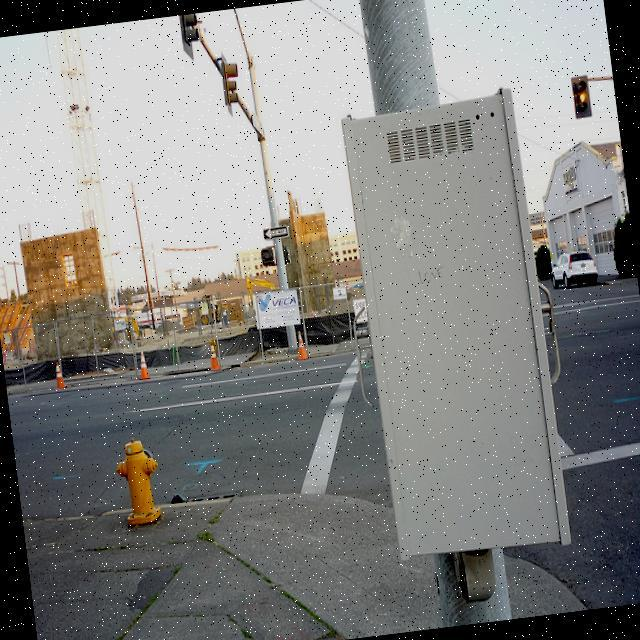fire_hydrant: (111, 434, 163, 526)
